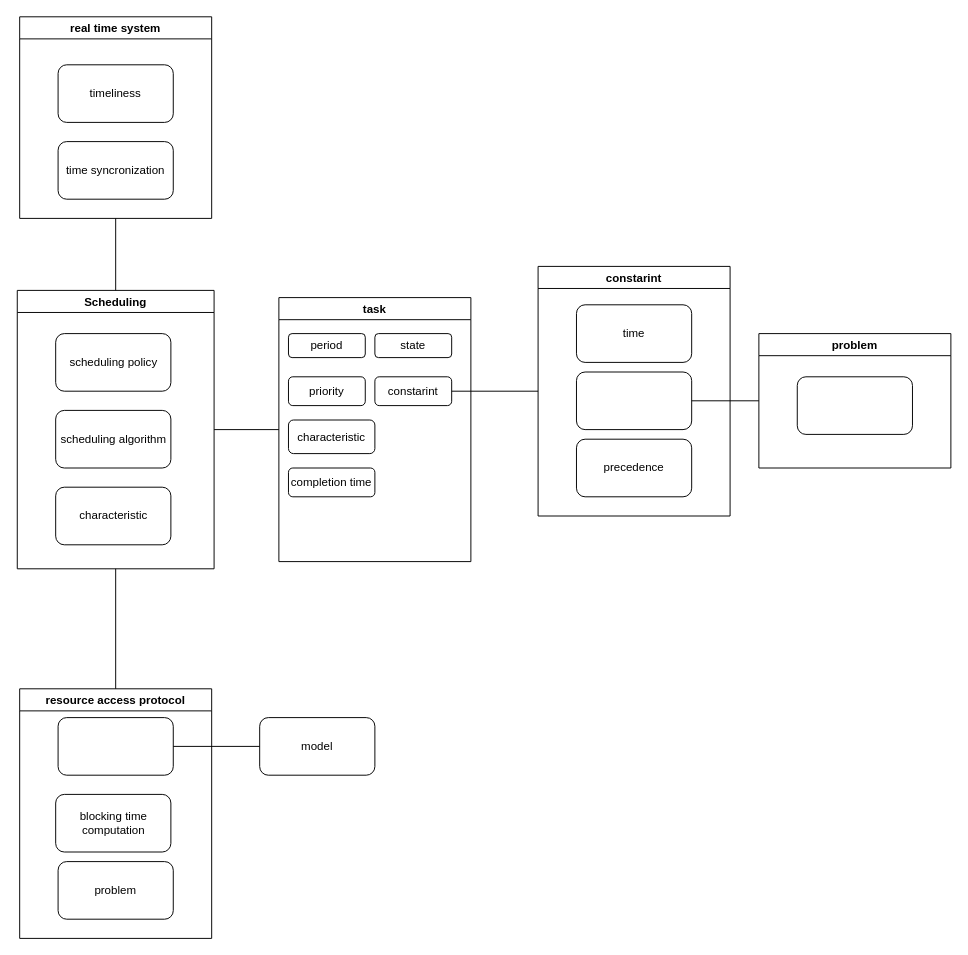
The diagram is 968 pixels wide and 955 high, and some of its shapes have lost their labels. The shapes that lost their labels are listed below. From the top down, each one's centre as x and y in pixels, then its label:
the point at 634,400: resource
the point at 854,405: priority invention
the point at 115,746: purpose
